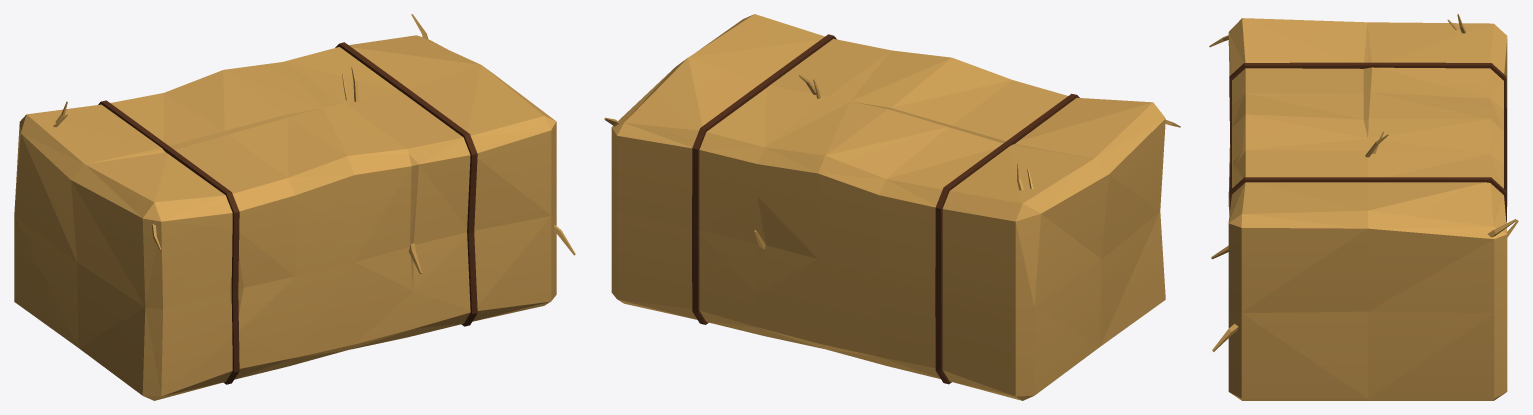
The model's file is Prop_Hay_Bale_Square_02.obj.
3 views of the same model, side by side, from view 1: azimuth 30°, elevation 25°; view 2: azimuth 150°, elevation 25°; view 3: azimuth 270°, elevation 25° (orthographic). The views are drawn at different scales.
Visible parts, largest first — view 1: Prop_Hay_Bale_Square_02; view 2: Prop_Hay_Bale_Square_02; view 3: Prop_Hay_Bale_Square_02.
Boxes of the visible parts, x1,y1,x2,y2 form: Prop_Hay_Bale_Square_02: (14,14,575,400); Prop_Hay_Bale_Square_02: (604,14,1180,400); Prop_Hay_Bale_Square_02: (1209,14,1518,400).
Bounding box in the file's own units: 1.79 × 0.8654 × 1.14.
